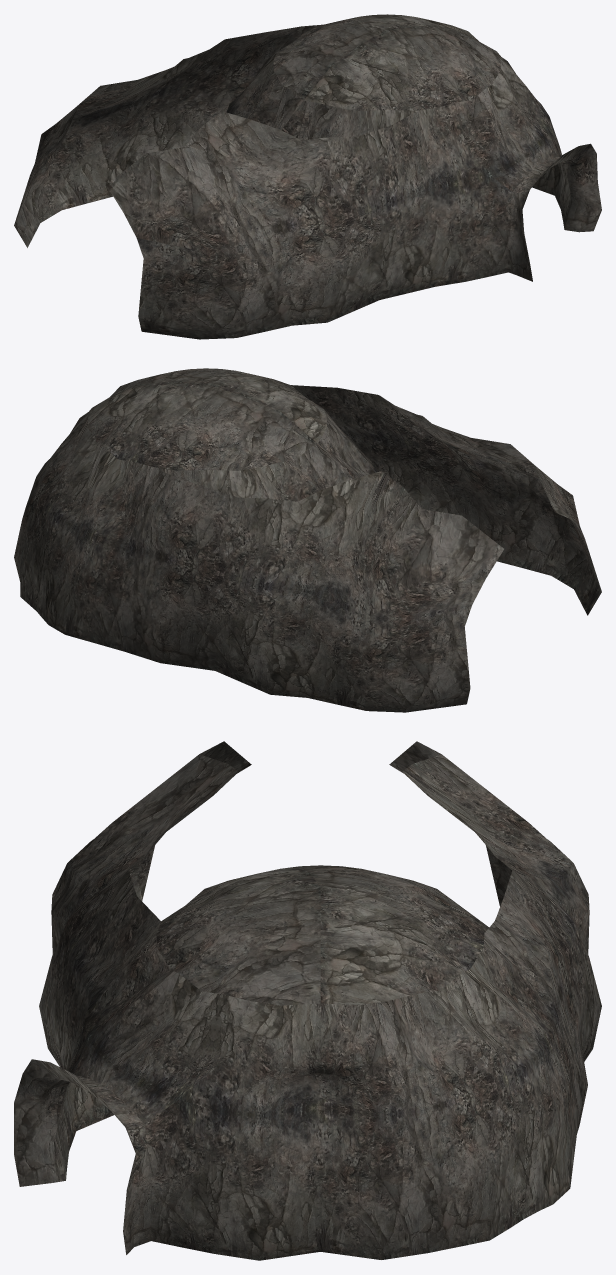
File: DN_Cave_Hall_broken.FBX
3 renders of one model, top to bottom at view 1: azimuth 30°, elevation 25°; view 2: azimuth 150°, elevation 25°; view 3: azimuth 270°, elevation 25°, orthographic. The views are drawn at different scales.
Parts seen in each view (by area): view 1: DN_Cave_Hall_broken_002, DN_Cave_Hall_broken, DN_Cave_Hall_broken_01; view 2: DN_Cave_Hall_broken_002, DN_Cave_Hall_broken, DN_Cave_Hall_broken_01; view 3: DN_Cave_Hall_broken, DN_Cave_Hall_broken_002, DN_Cave_Hall_broken_01.
Part boxes in pixels (box(x1,y1,x2,y2)): DN_Cave_Hall_broken_002: box(14, 24, 435, 339); DN_Cave_Hall_broken: box(273, 14, 601, 286); DN_Cave_Hall_broken_01: box(226, 52, 417, 140); DN_Cave_Hall_broken_002: box(121, 385, 601, 712); DN_Cave_Hall_broken: box(14, 368, 326, 651); DN_Cave_Hall_broken_01: box(155, 409, 377, 501); DN_Cave_Hall_broken: box(14, 865, 579, 1260); DN_Cave_Hall_broken_002: box(39, 741, 601, 1133); DN_Cave_Hall_broken_01: box(69, 890, 489, 1130).
Size of the model in its own units: 42.81 by 16.55 by 32.64.
